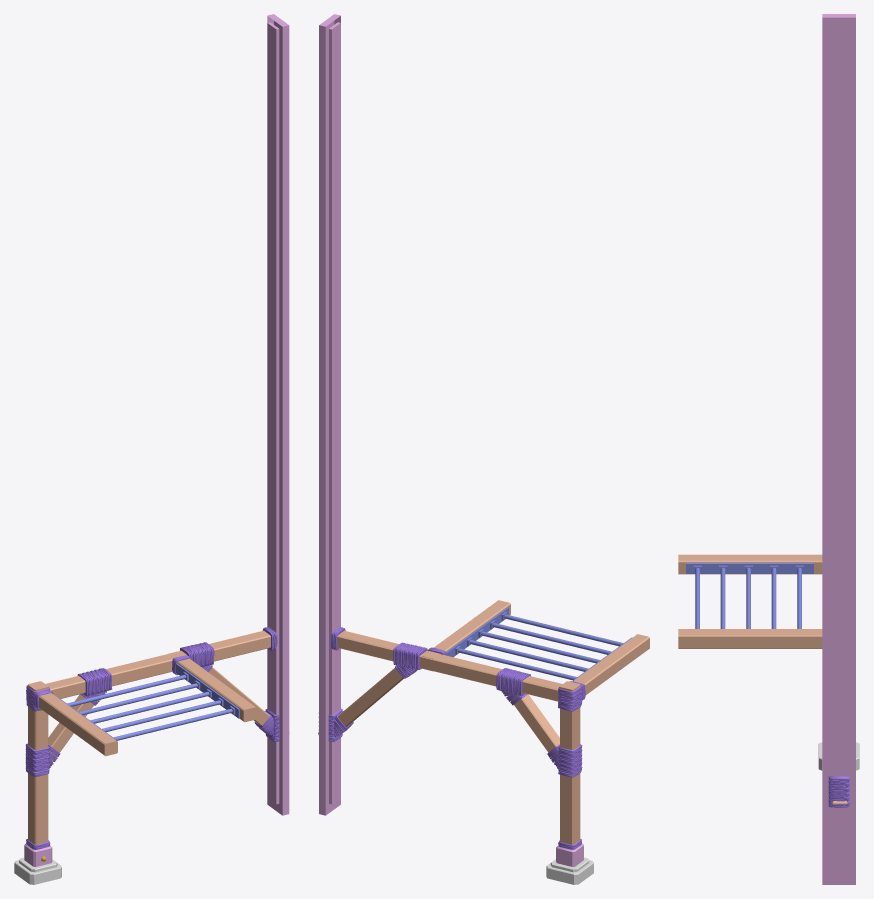
File: Boss2_Platform_Right_AJ.fbx
The picture shows the model from 3 angles, left to right: view 1: azimuth 30°, elevation 25°; view 2: azimuth 150°, elevation 25°; view 3: azimuth 270°, elevation 25°; orthographic projection. The views are drawn at different scales.
Parts seen in each view (by area): view 1: Wall_Pillar; view 2: Wall_Pillar; view 3: Wall_Pillar.
Part boxes in pixels (x1,y1,x2,y2): Wall_Pillar: [14, 14, 289, 884]; Wall_Pillar: [318, 14, 649, 884]; Wall_Pillar: [678, 14, 859, 884].
Bounding box in the file's own units: 1997 × 5729 × 1076.
